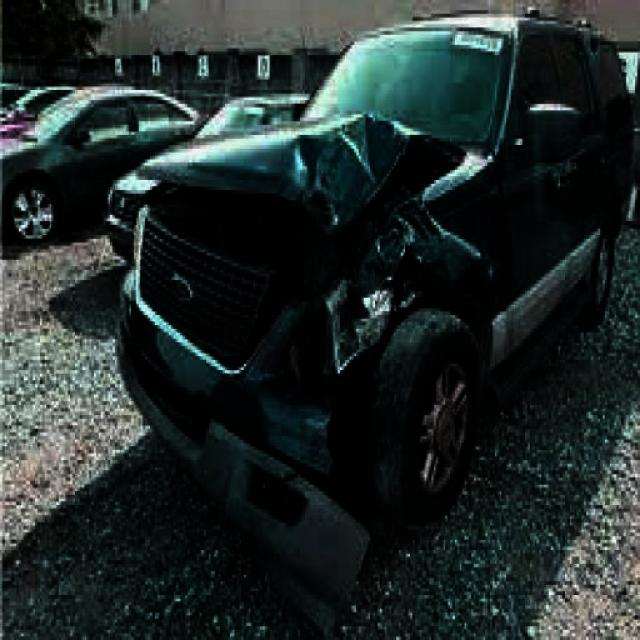car damage: (136, 107, 483, 638)
